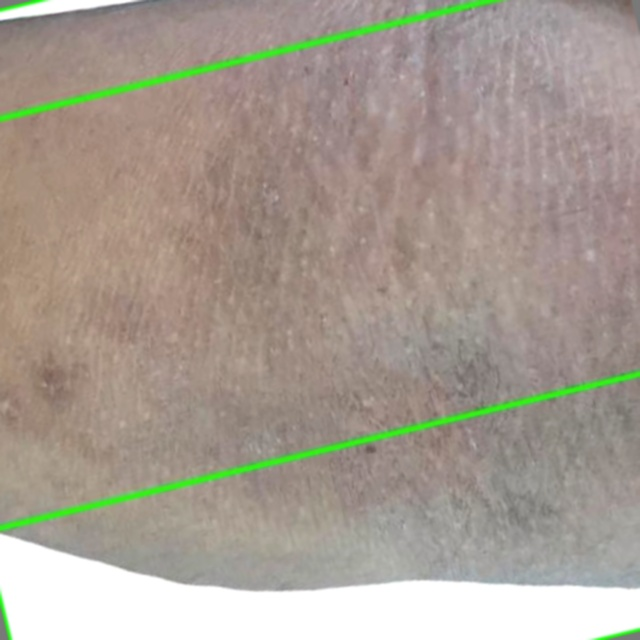Contact Dermatitis: (0, 374, 639, 639)
